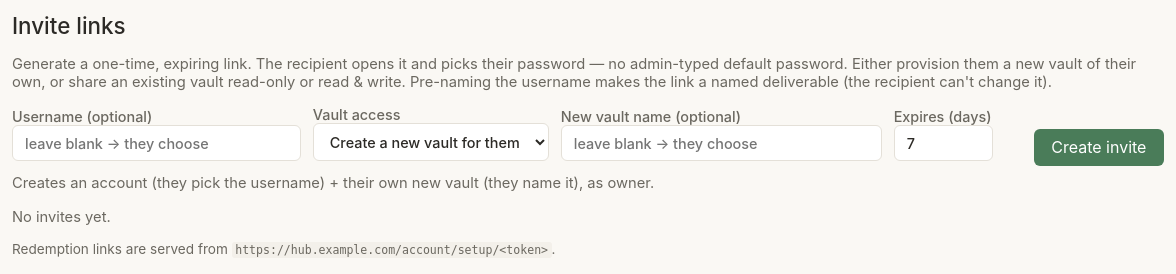
it: InvitesSection — form modes › share mode reveals the existing-vault picker + role selector
The width and height of the screenshot is (1176, 274).
Expected: the text "No invites yet." is shown, [12,208,111,226]
Select "Share an existing vault" in the dropdown labelled "Vault access" at (431, 142), box [313,123,549,161]
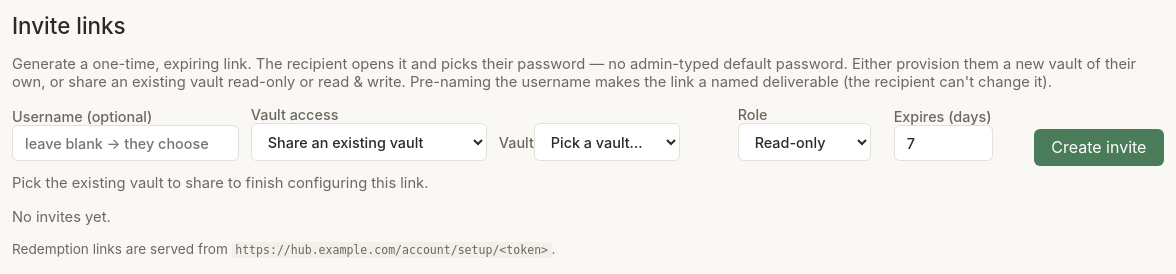
Expected: the text "Role" is shown, [738,106,768,123]
Expected: the text "New vault name" is gone
